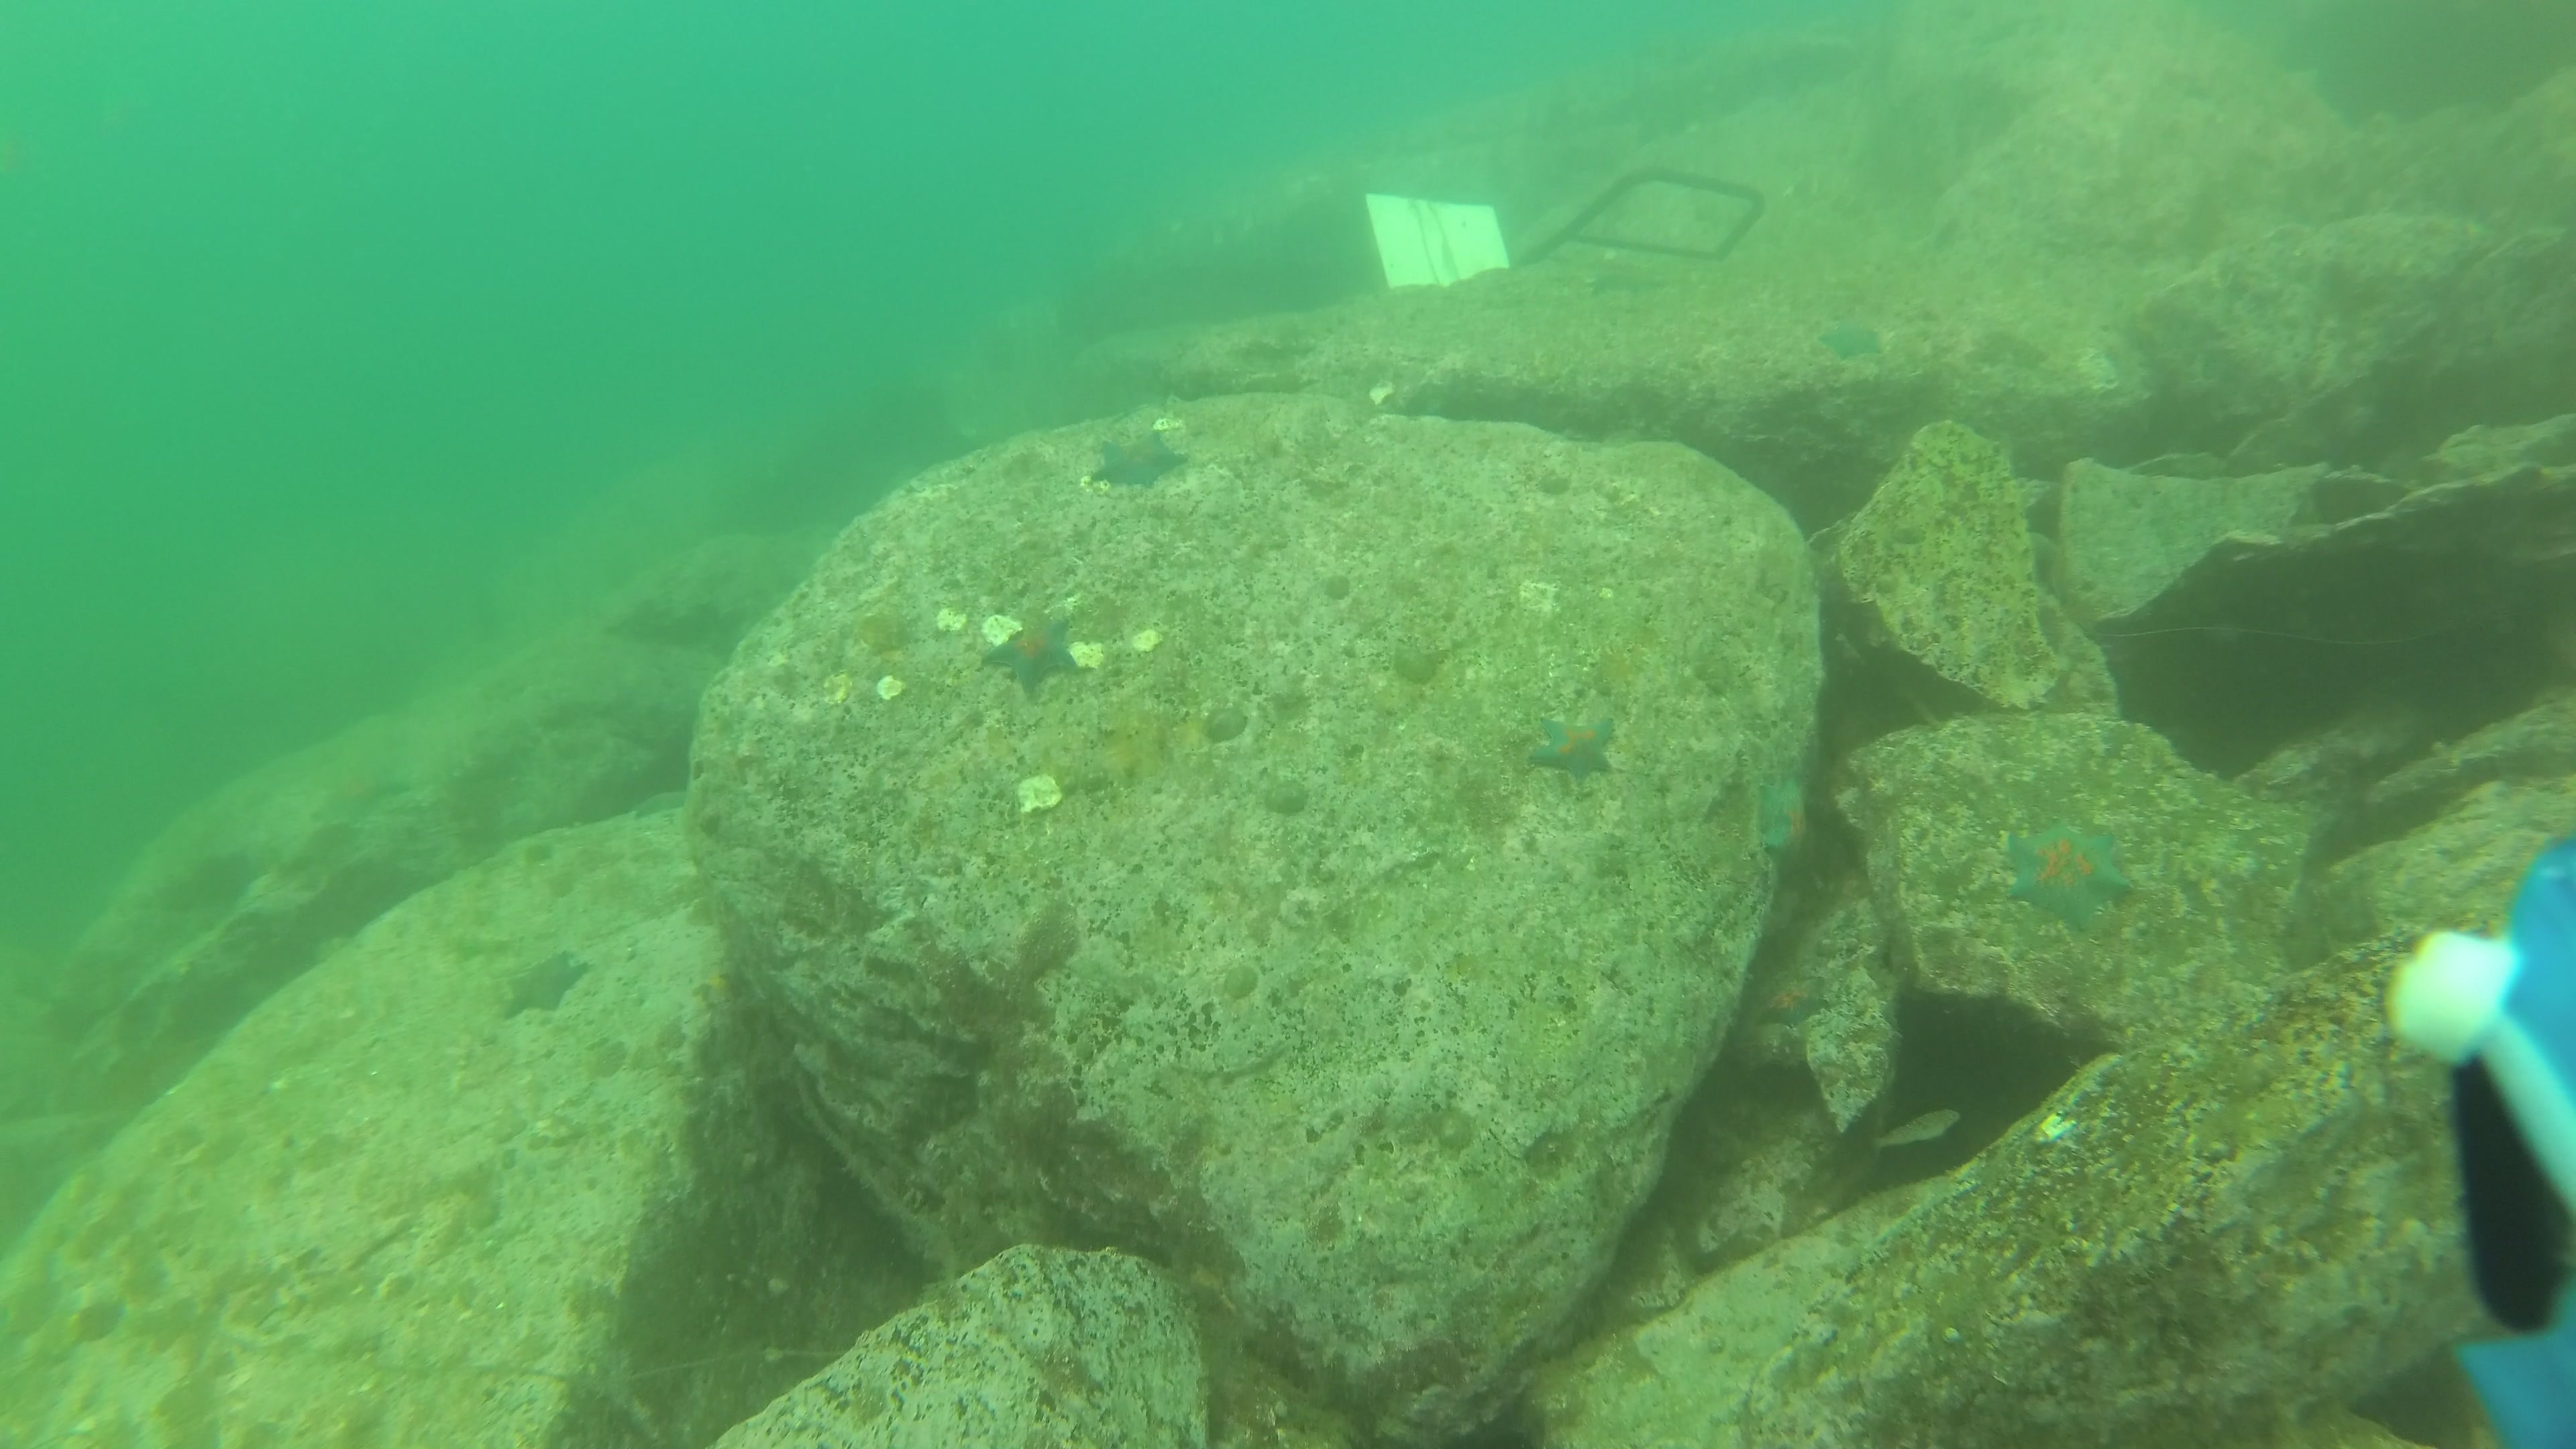starfish: (2001, 816, 2139, 943), (980, 614, 1083, 692), (1525, 711, 1626, 787), (499, 947, 594, 1023), (1088, 430, 1191, 494), (1748, 775, 1813, 874), (1757, 966, 1838, 1033), (1815, 317, 1890, 364)
